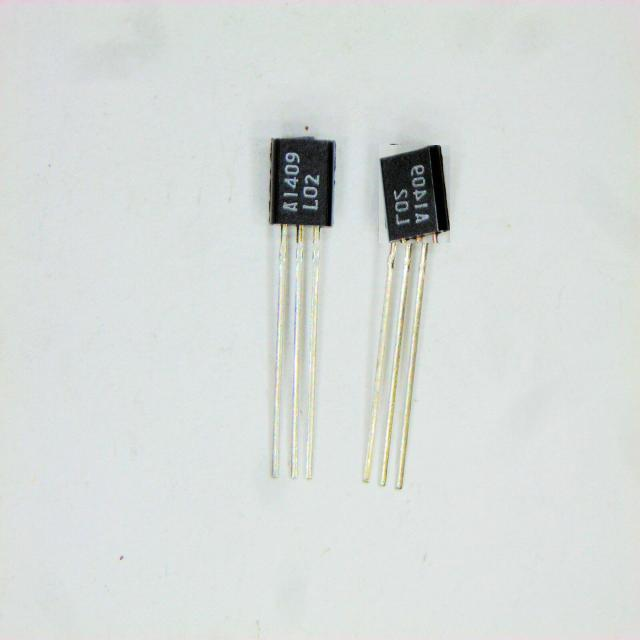Transistor: (347, 137, 457, 505), (253, 123, 340, 499)
